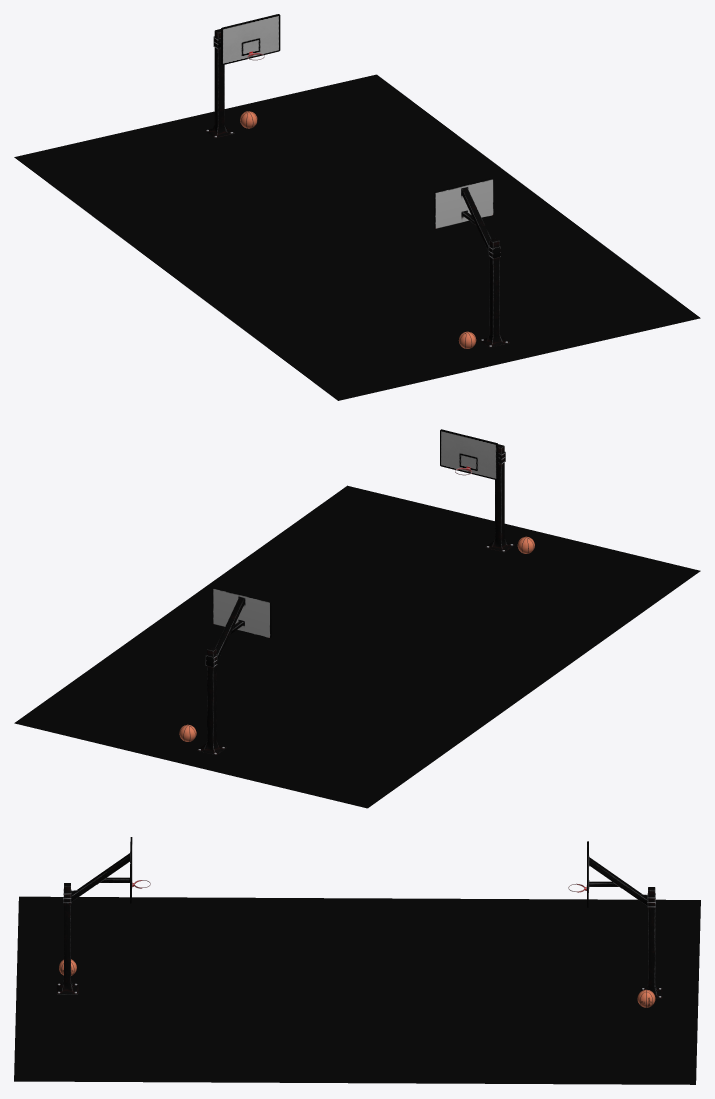
The picture shows the model from 3 angles, top to bottom: view 1: azimuth 30°, elevation 25°; view 2: azimuth 150°, elevation 25°; view 3: azimuth 270°, elevation 25°; orthographic projection. The views are drawn at different scales.
Parts seen in each view (by area): view 1: courtlines, whole_low 1, whole_low; view 2: courtlines, whole_low, whole_low 1; view 3: courtlines, whole_low 1, whole_low.
Boxes of the visible parts, x1,y1,x2,y2 form: courtlines: (14,74,700,400); whole_low 1: (434,178,509,347); whole_low: (205,14,280,137); courtlines: (14,485,700,808); whole_low: (197,587,271,754); whole_low 1: (440,429,514,552); courtlines: (14,896,700,1084); whole_low 1: (56,837,150,994); whole_low: (568,841,662,998).
Size of the model in its own units: 0.1561 by 0.0551 by 0.2454.
6 materials, 6 textured.
